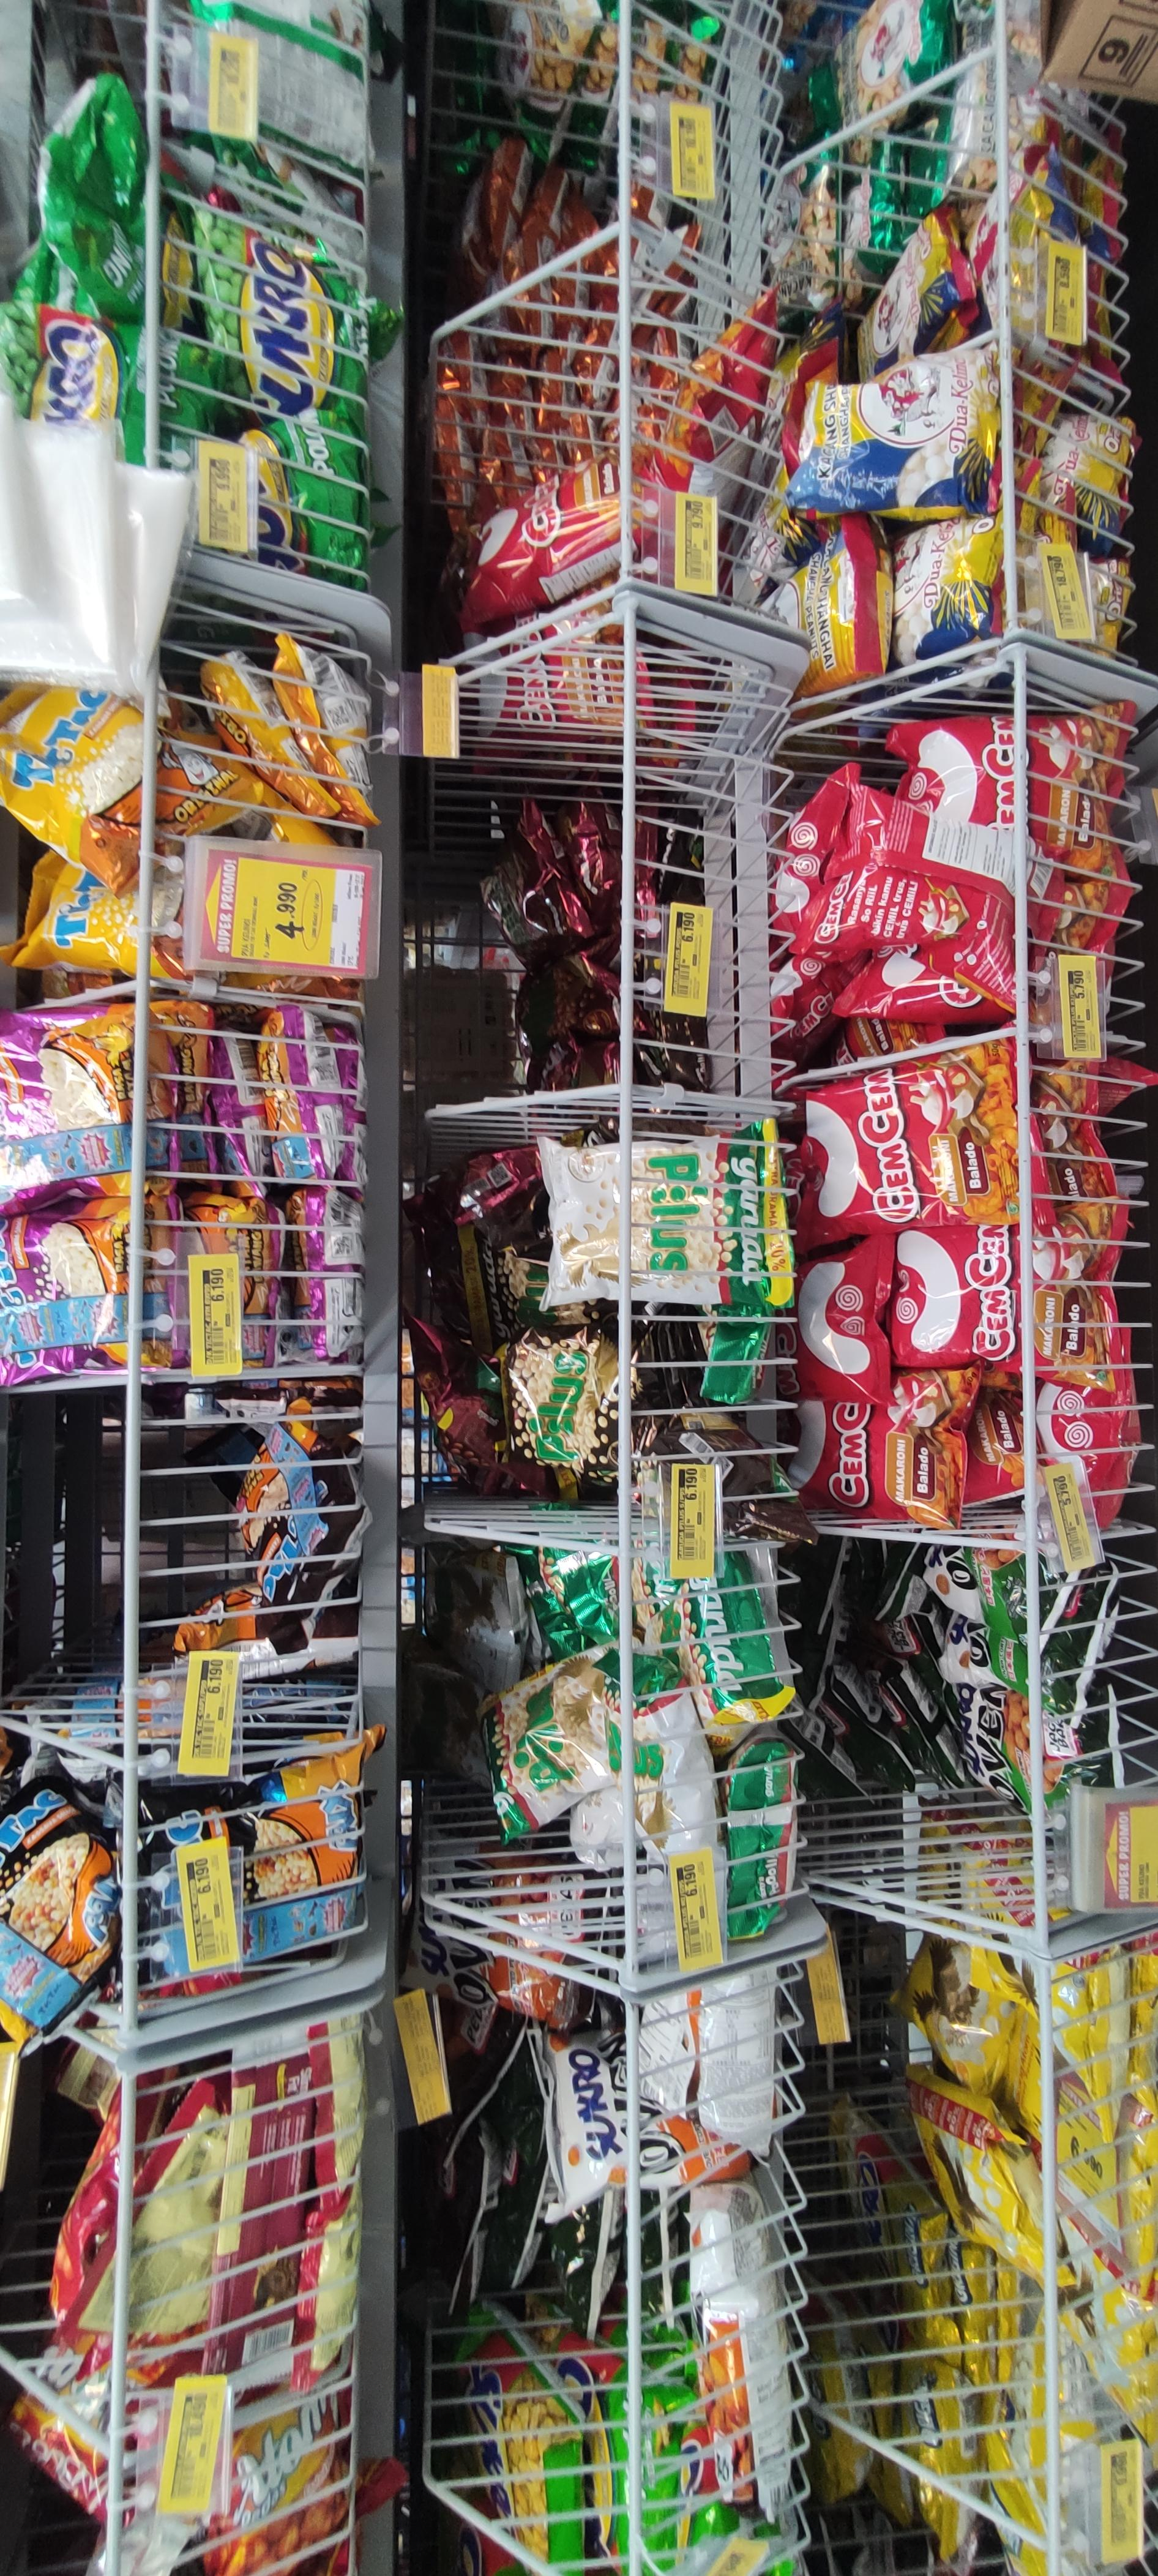90101151402100: (466, 1332, 650, 1497)
90101151604100: (537, 1145, 806, 1309)
CemCemBalado: (802, 1063, 1035, 1242), (889, 1219, 1104, 1377)
KacangDuaKelinciOriginal: (787, 343, 1002, 514)
TicTacAyamBawang: (0, 1002, 214, 1181), (0, 1209, 181, 1377)
